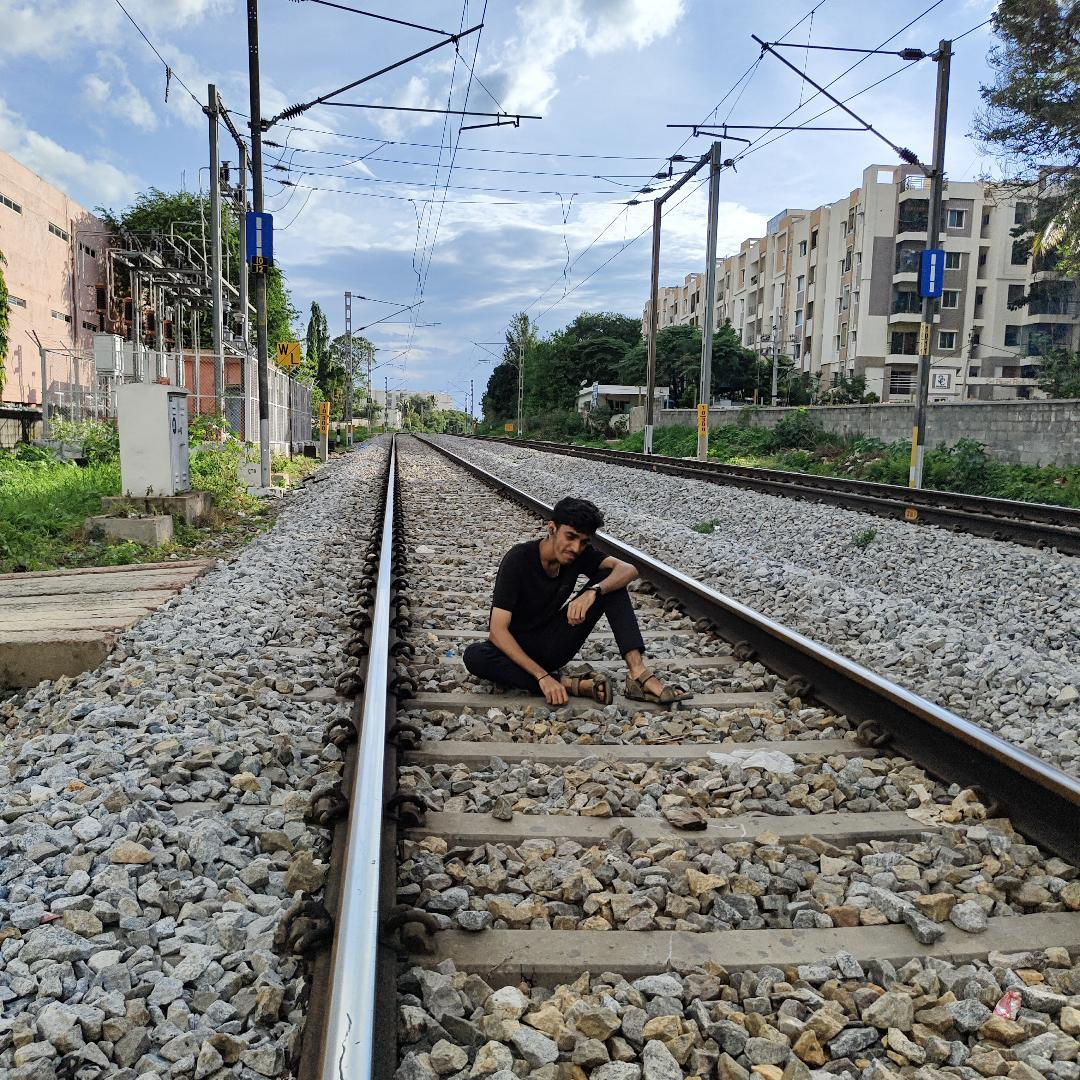sitting: (470, 491, 676, 717)
